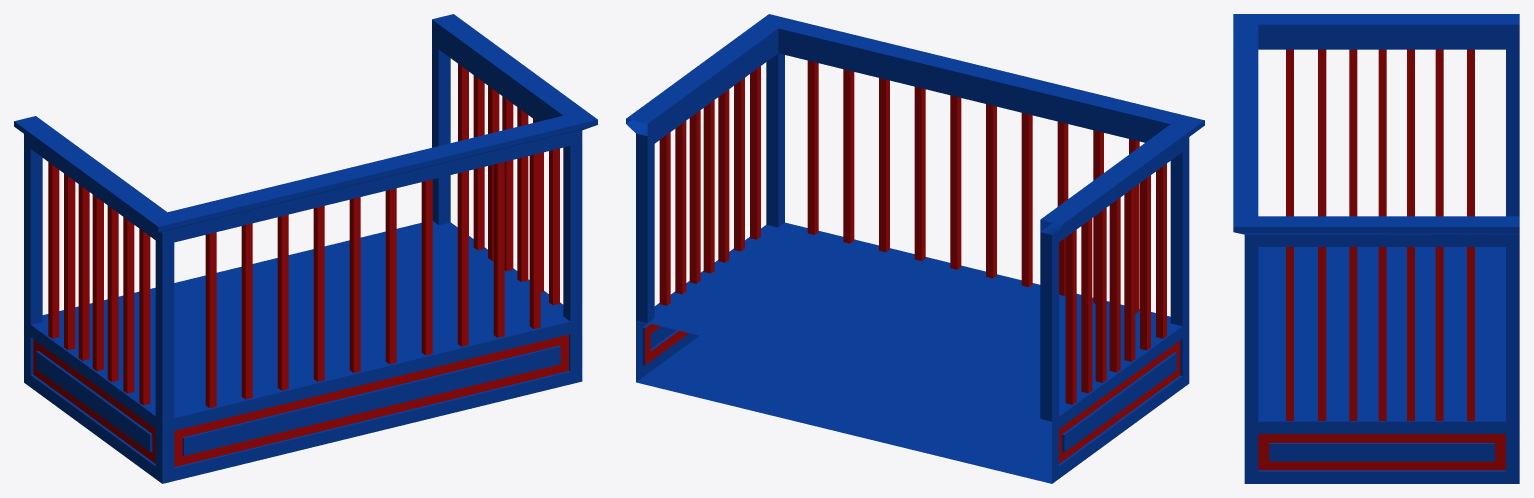
The model's file is Balcony01.fbx.
The picture shows the model from 3 angles, left to right: view 1: azimuth 30°, elevation 25°; view 2: azimuth 150°, elevation 25°; view 3: azimuth 270°, elevation 25°; orthographic projection.
Parts seen in each view (by area): view 1: Balcony01; view 2: Balcony01; view 3: Balcony01.
Part boxes in pixels (<box>): Balcony01: <box>14,14,597,483</box>; Balcony01: <box>626,14,1204,483</box>; Balcony01: <box>1233,14,1519,483</box>.
Size of the model in its own units: 366 by 210 by 208.
